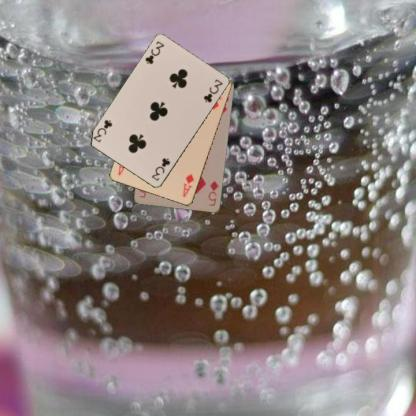3c: (149, 155, 172, 182), (143, 39, 165, 66)
5d: (206, 178, 220, 208)
Ad: (180, 172, 196, 198)
